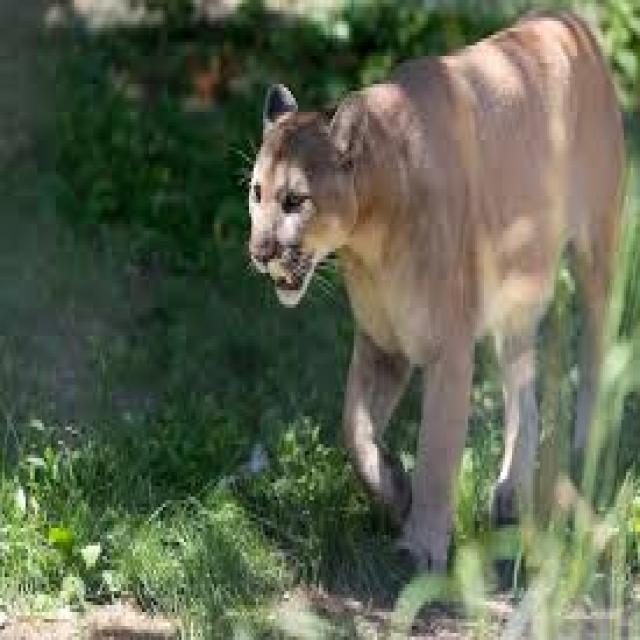Lion: (242, 9, 630, 588)
